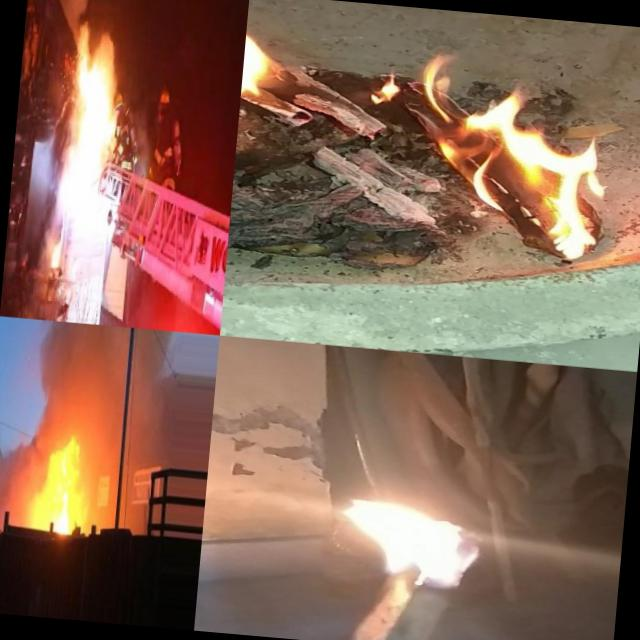fire: (229, 0, 623, 258), (320, 474, 542, 623), (50, 15, 121, 284), (42, 451, 80, 534)
smoke: (5, 319, 131, 433), (0, 421, 51, 528)
